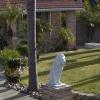Statue: (46, 48, 74, 93)
